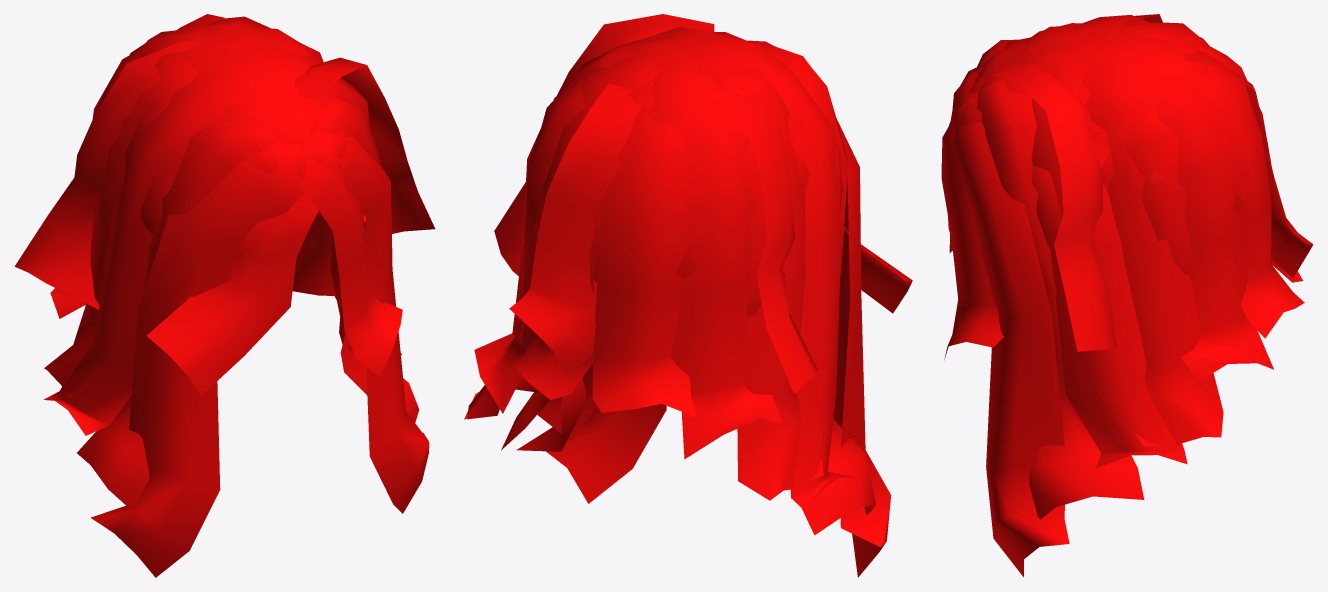
File: cortu_shaggy_green_hair_M.glb
3 views of the same model, side by side, from view 1: azimuth 30°, elevation 25°; view 2: azimuth 150°, elevation 25°; view 3: azimuth 270°, elevation 25° (orthographic). The views are drawn at different scales.
Size of the model in its own units: 0.2723 by 0.3569 by 0.2478.
1 material, 1 textured.
